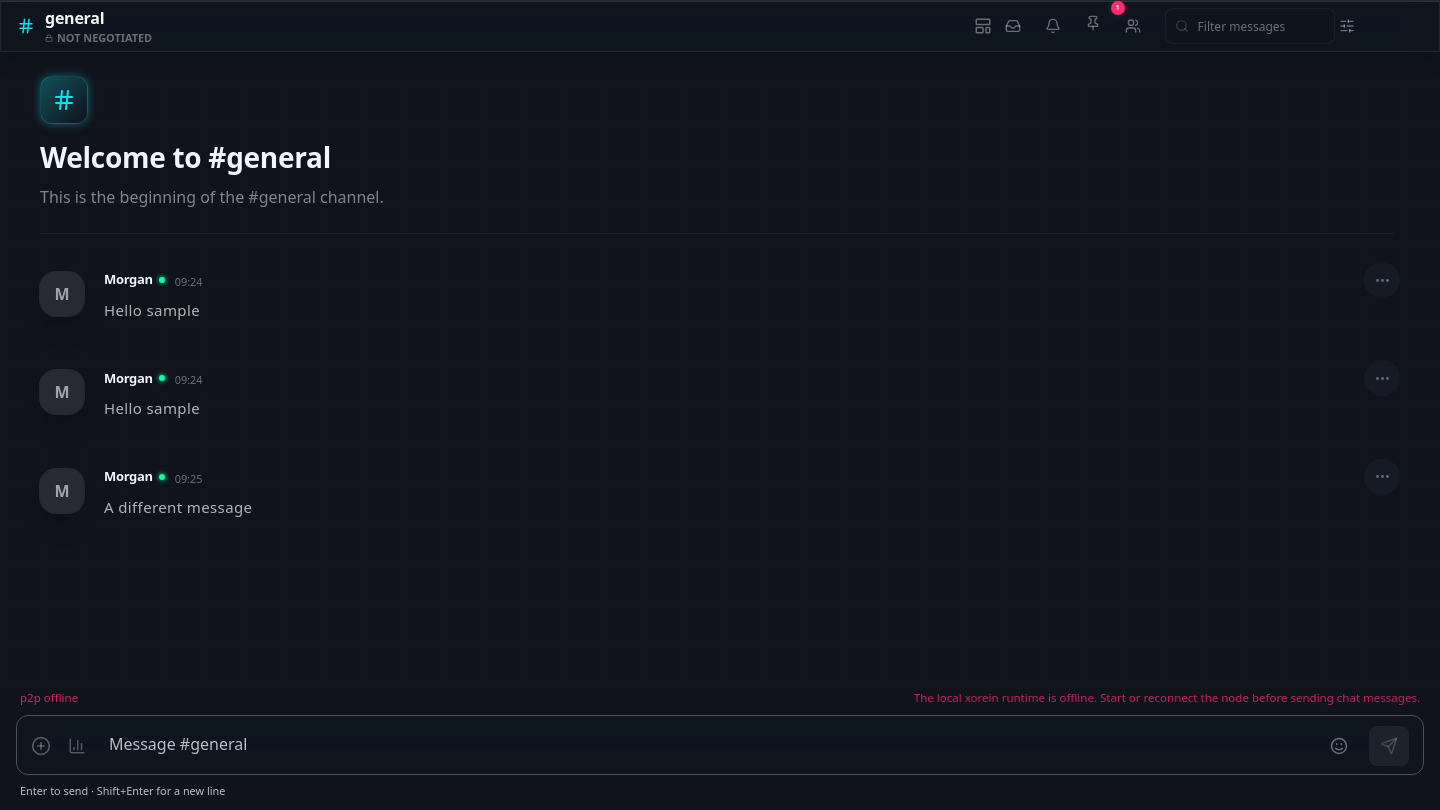
it: conversation accessibility › opens, contains, and restores pinned drawer focus from toolbar
Click the button named "Pinned Messages" at (1103, 23), box [1085,5,1121,41]
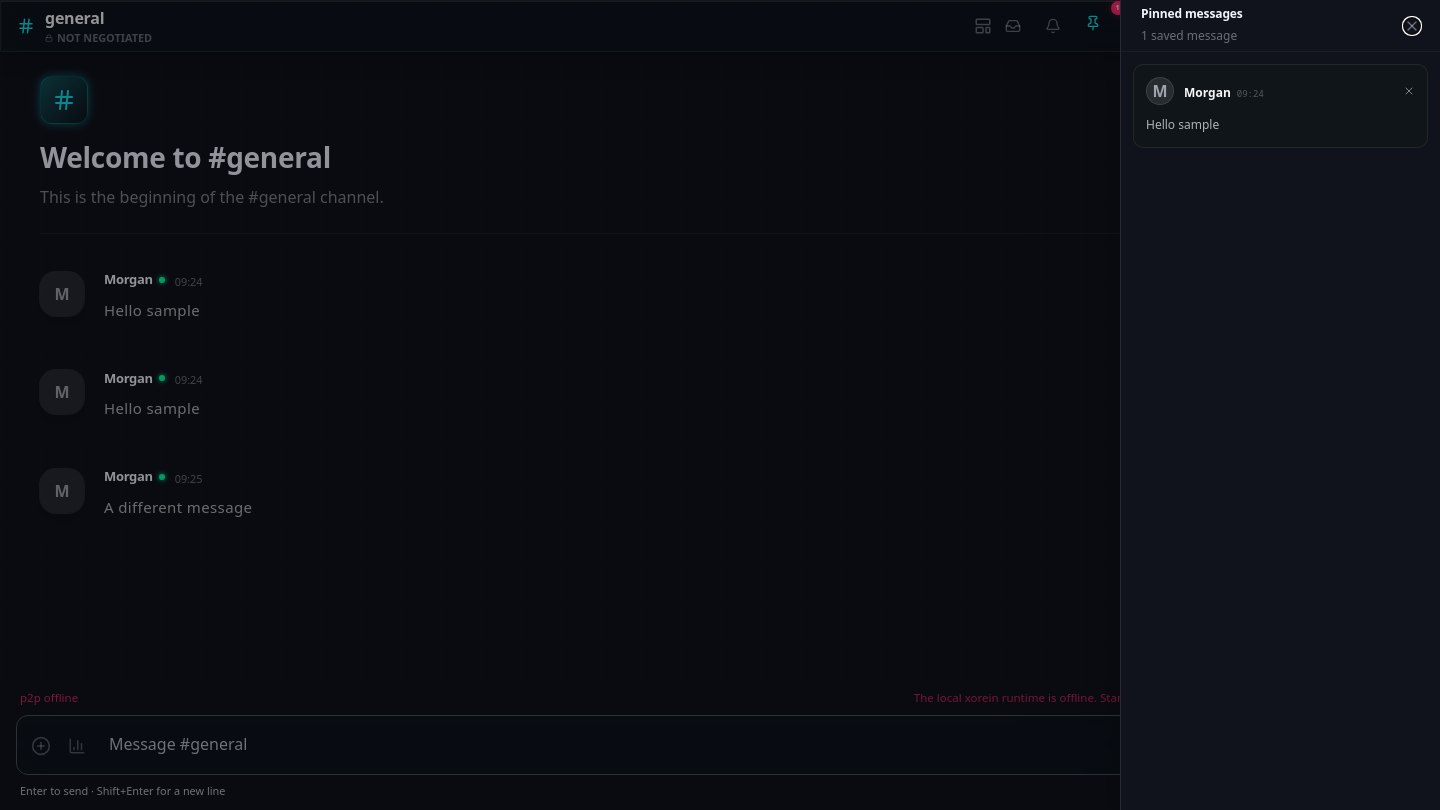
Press Tab
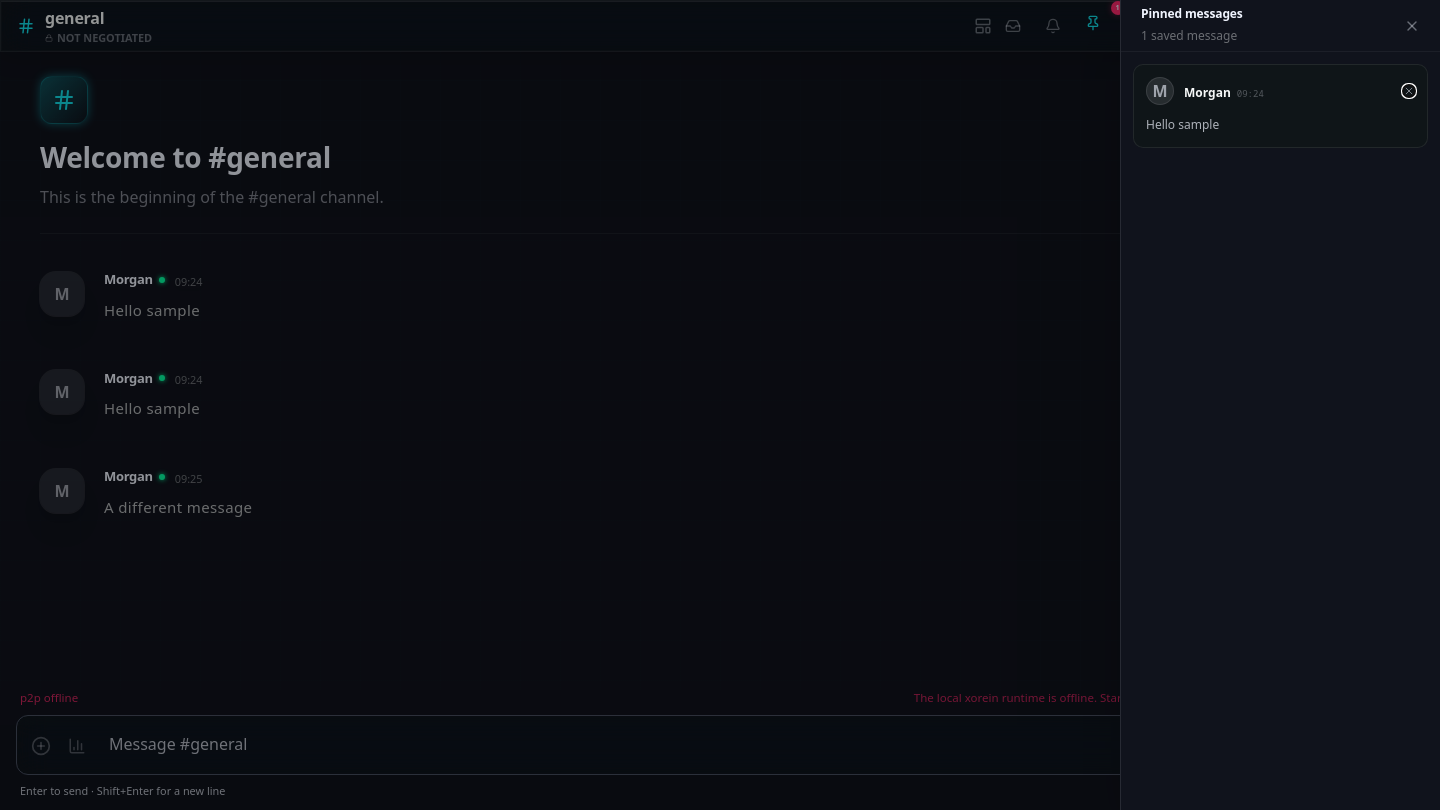
Press Shift+Tab
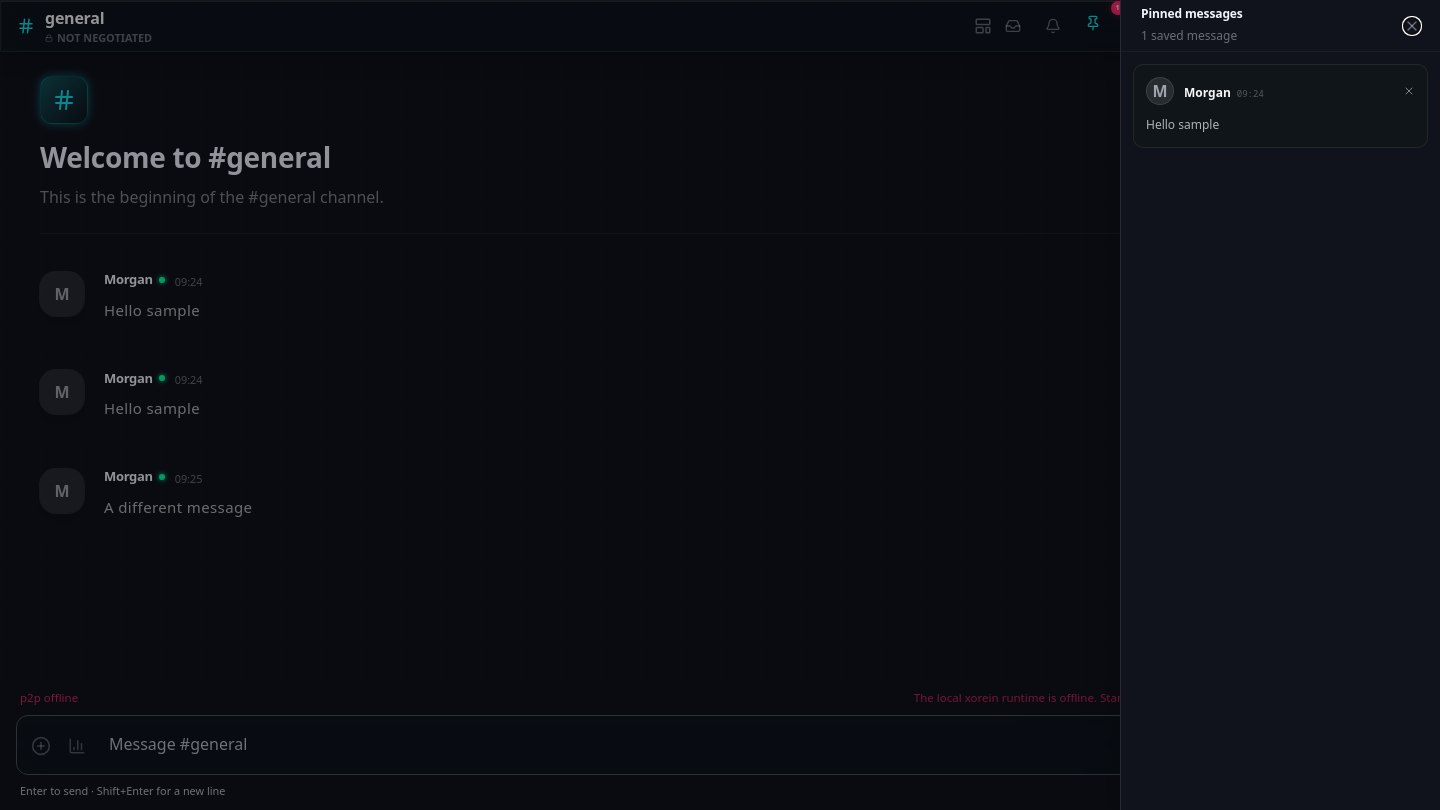
Press Escape
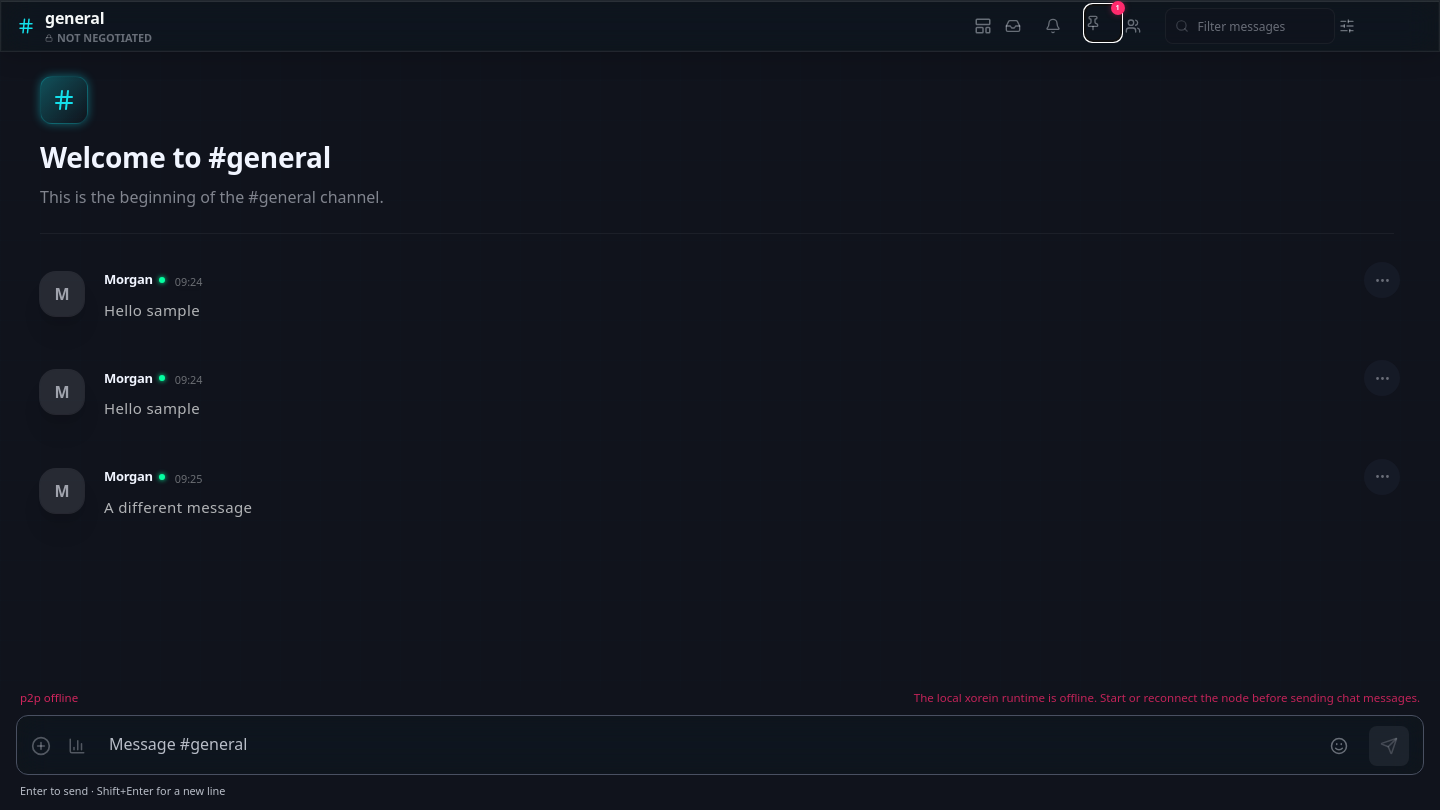
Expected: the heading "Pinned messages" is gone
